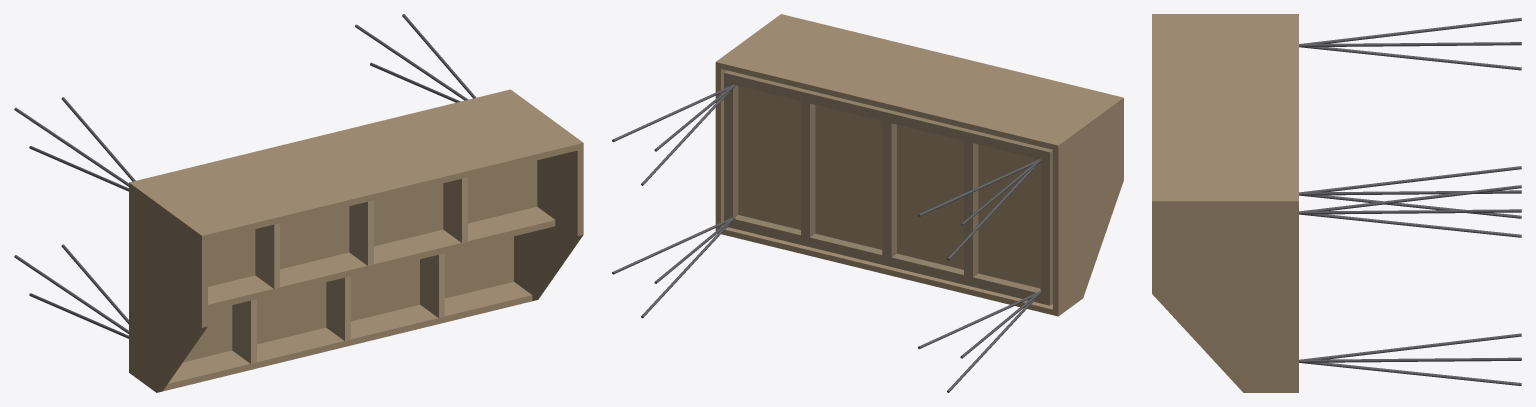
The model's file is vinyl_record_storage.glb.
3 renders of one model, left to right at view 1: azimuth 30°, elevation 25°; view 2: azimuth 150°, elevation 25°; view 3: azimuth 270°, elevation 25°, orthographic. The views are drawn at different scales.
Visible parts, largest first — view 1: back, side_left, back_shelf_bottom, bottom, front, shelf_divider, side_right, back_divider_3, back_divider_2, back_divider_1, front_divider_3, front_divider_2 (+4 smaller); view 2: bottom, back, side_left, frame_front, frame_back, front, frame_right, frame_left, frame_cross_2, frame_cross_3, frame_cross_1, side_right (+4 smaller); view 3: back, side_right, leg_back_left, leg_front_right, leg_back_right, leg_front_left, side_left.
Part boxes in pixels (x1,y1,x2,y2): back: (135, 91, 577, 240); side_left: (129, 181, 207, 392); back_shelf_bottom: (208, 160, 537, 286); bottom: (183, 236, 513, 362); front: (163, 282, 532, 391); shelf_divider: (208, 207, 555, 310); side_right: (505, 89, 583, 301); back_divider_3: (443, 177, 467, 243); back_divider_2: (349, 200, 373, 265); back_divider_1: (255, 223, 279, 288); front_divider_3: (420, 253, 444, 318); front_divider_2: (326, 276, 350, 341); bottom: (726, 70, 1052, 304); back: (721, 15, 1117, 149); side_left: (1053, 96, 1123, 316); frame_front: (733, 215, 1040, 303); frame_back: (733, 72, 1043, 159); front: (721, 227, 1052, 314); frame_right: (724, 70, 738, 228); frame_left: (1040, 148, 1052, 305); frame_cross_2: (882, 121, 896, 257); frame_cross_3: (801, 101, 815, 237); frame_cross_1: (964, 141, 978, 277); side_right: (715, 14, 785, 230); back: (1152, 17, 1298, 198); side_right: (1152, 198, 1298, 392); leg_back_left: (1299, 18, 1521, 70); leg_front_right: (1299, 333, 1521, 385); leg_back_right: (1299, 185, 1521, 237); leg_front_left: (1299, 166, 1521, 218); side_left: (1152, 14, 1298, 16).
Bounding box in the file's own units: 57.16 × 27.6 × 46.53.
